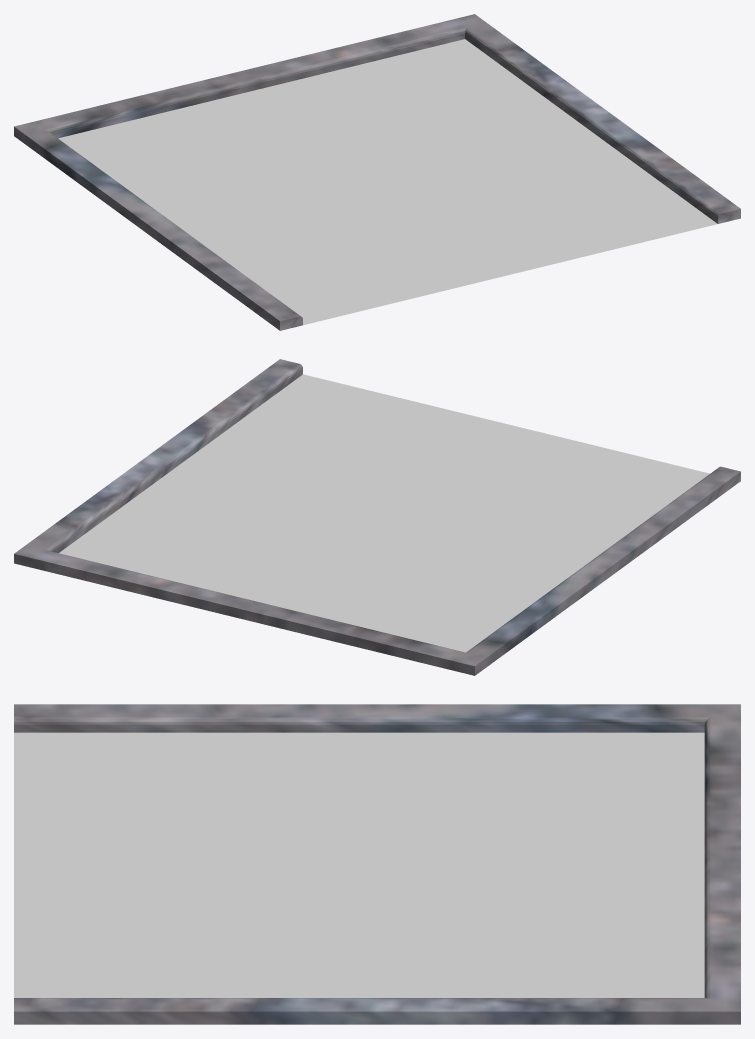
File: yol25.fbx
3 renders of one model, top to bottom at view 1: azimuth 30°, elevation 25°; view 2: azimuth 150°, elevation 25°; view 3: azimuth 270°, elevation 25°, orthographic. The views are drawn at different scales.
Parts seen in each view (by area): view 1: Plane.001; view 2: Plane.001; view 3: Plane.001.
Part boxes in pixels (x1,y1,x2,y2): Plane.001: (14,14,740,330); Plane.001: (14,359,740,675); Plane.001: (14,704,740,1024).
Size of the model in its own units: 100 by 2 by 100.
